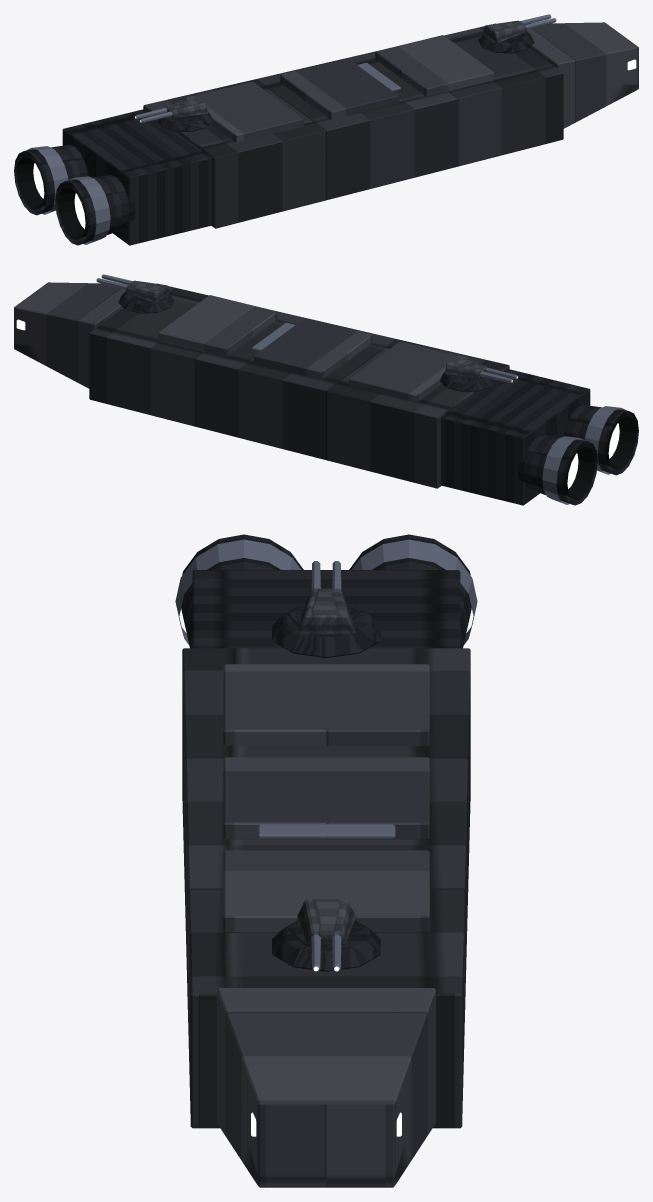
File: armed_merchant.glb
3 renders of one model, top to bottom at view 1: azimuth 30°, elevation 25°; view 2: azimuth 150°, elevation 25°; view 3: azimuth 270°, elevation 25°, orthographic. The views are drawn at different scales.
Parts seen in each view (by area): view 1: armed_merchant; view 2: armed_merchant; view 3: armed_merchant.
Part boxes in pixels (bbox=[...]): armed_merchant: bbox=[14, 14, 638, 245]; armed_merchant: bbox=[14, 274, 638, 505]; armed_merchant: bbox=[175, 534, 477, 1187].
Size of the model in its own units: 38 by 6.24 by 8.7.
Materials: 1 (1 with a texture image).
